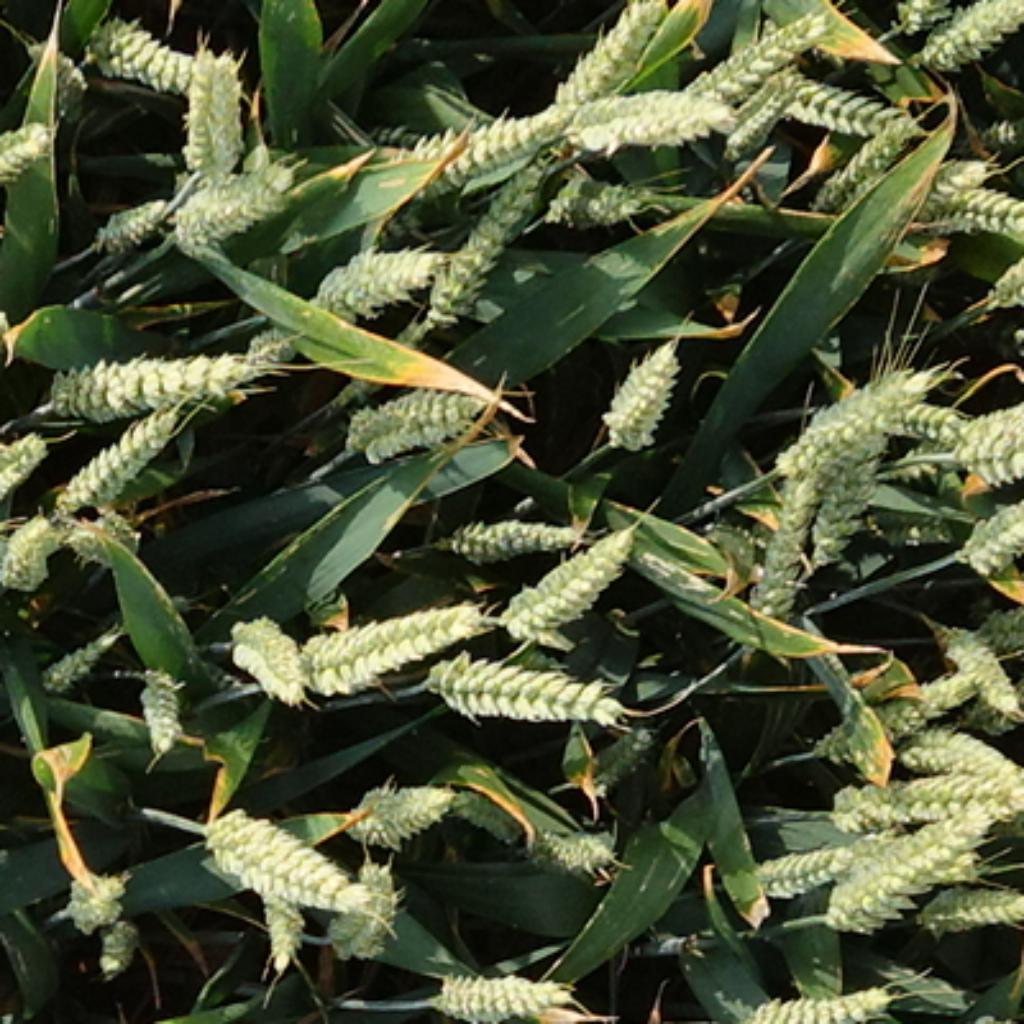0-0: (821, 816, 1003, 931), (419, 163, 555, 314), (803, 652, 998, 757), (378, 94, 563, 204), (30, 332, 268, 417), (768, 358, 939, 476), (808, 360, 901, 565), (194, 798, 358, 913), (291, 593, 476, 688), (552, 2, 692, 124), (499, 514, 640, 632), (76, 7, 240, 107), (417, 642, 624, 721), (691, 0, 842, 100), (337, 378, 496, 465), (51, 407, 194, 501), (829, 770, 1024, 837), (801, 107, 921, 212), (560, 71, 729, 145), (166, 151, 299, 243), (755, 71, 916, 143), (309, 227, 442, 309), (168, 38, 248, 171), (739, 483, 819, 616), (593, 337, 686, 450), (425, 961, 579, 1024), (896, 721, 1024, 796), (824, 399, 993, 455), (343, 765, 460, 842), (934, 624, 1021, 724), (724, 975, 898, 1024), (435, 506, 581, 563), (320, 855, 401, 954), (222, 604, 307, 696), (908, 2, 1024, 69), (724, 58, 801, 158), (849, 156, 990, 207), (942, 399, 1024, 486), (542, 161, 652, 225), (586, 711, 668, 793), (747, 834, 857, 893), (35, 614, 120, 686), (911, 875, 1024, 929), (92, 179, 176, 250), (954, 491, 1024, 576), (517, 811, 616, 870), (911, 189, 1024, 238), (0, 512, 66, 593), (130, 668, 189, 755), (58, 499, 140, 560), (58, 857, 130, 926), (0, 120, 58, 204), (445, 775, 522, 834), (0, 419, 46, 504), (94, 919, 148, 983), (23, 40, 92, 89), (967, 108, 1024, 166), (256, 888, 307, 952), (235, 317, 296, 368), (960, 607, 1024, 653), (962, 691, 1024, 734), (988, 253, 1024, 312)
